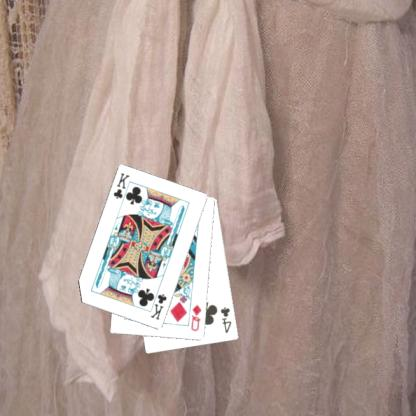4C: (218, 304, 234, 335)
KC: (146, 286, 169, 321), (111, 170, 132, 206)
QD: (188, 302, 203, 333)
